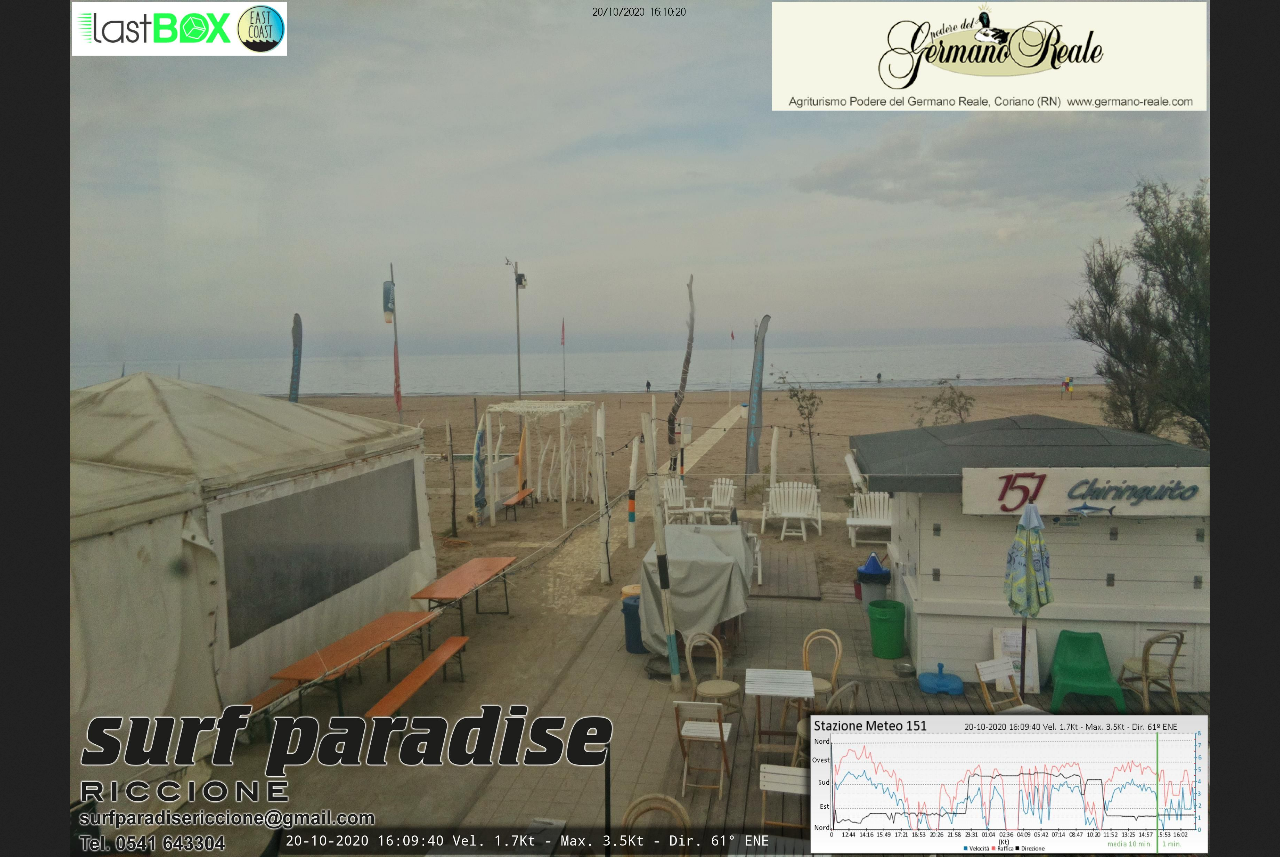no: (558, 317, 568, 348)
